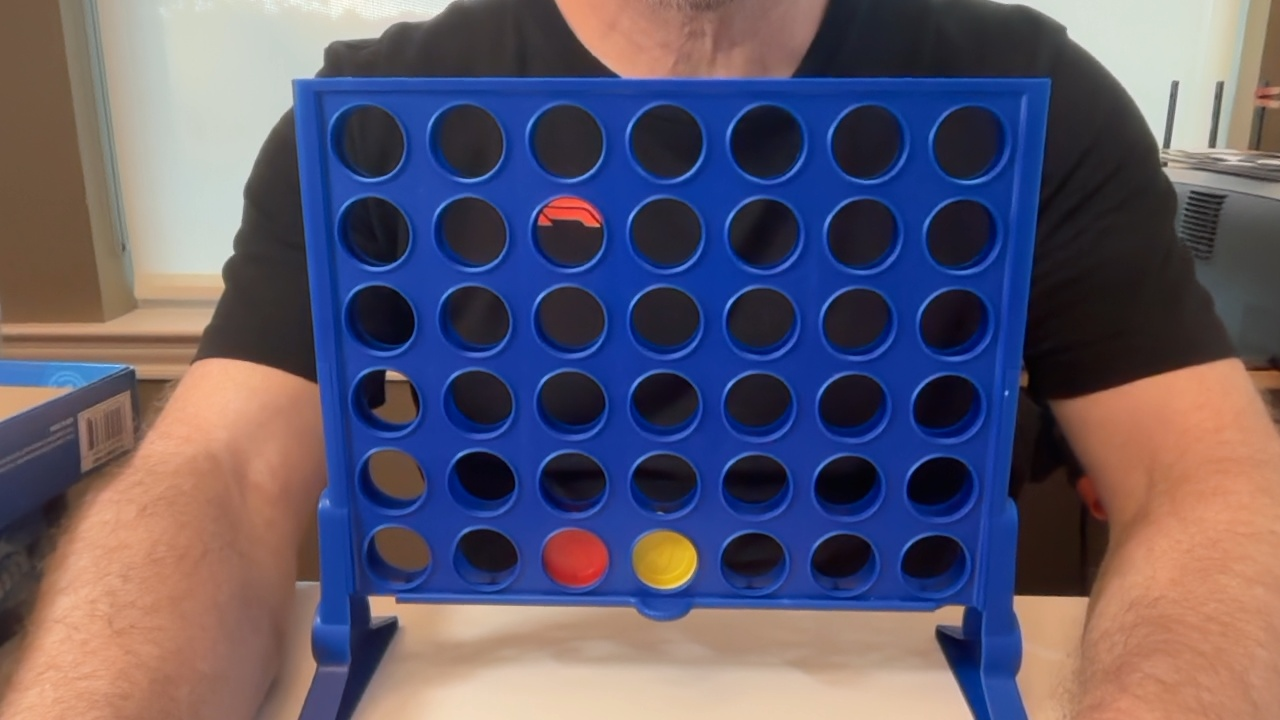red piece: (543, 529, 608, 588)
yellow piece: (632, 530, 697, 589)
